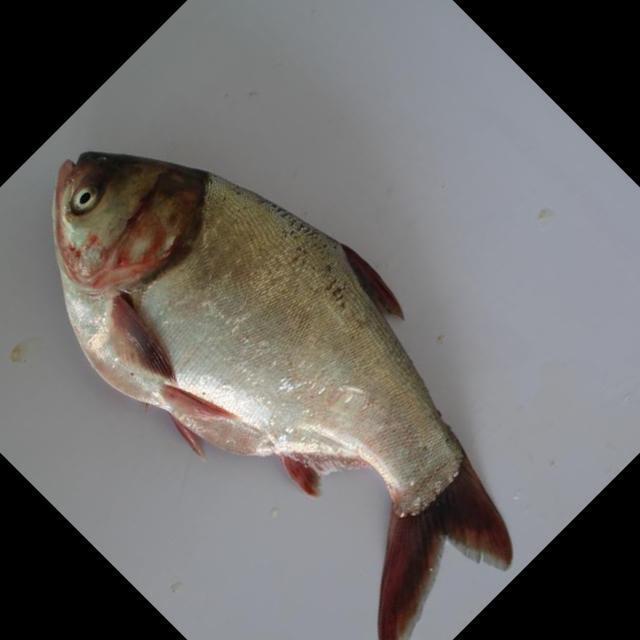SilverCarp: (49, 147, 523, 624)
